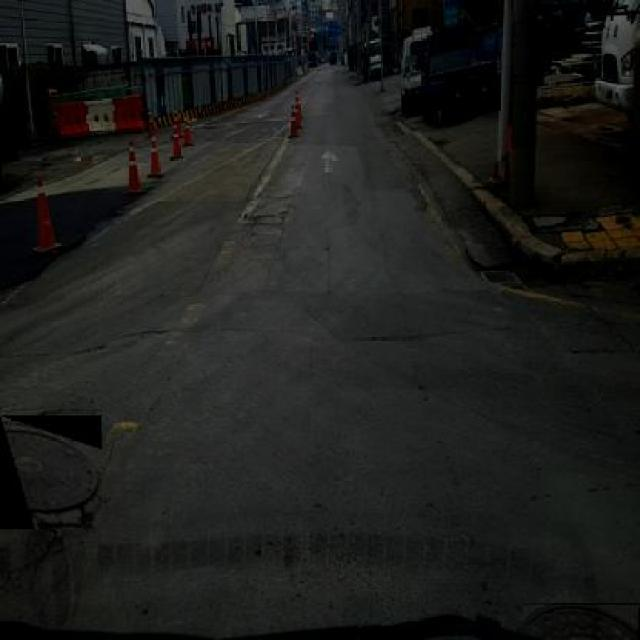Manhole: (0, 416, 102, 530), (509, 603, 640, 640)
Pothole: (234, 201, 308, 232)
